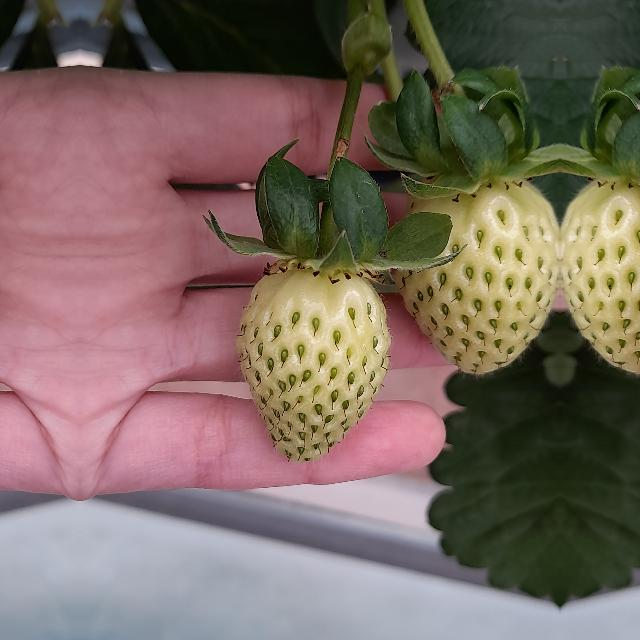Health_25: (399, 168, 557, 378), (236, 266, 390, 462), (563, 168, 640, 377)
